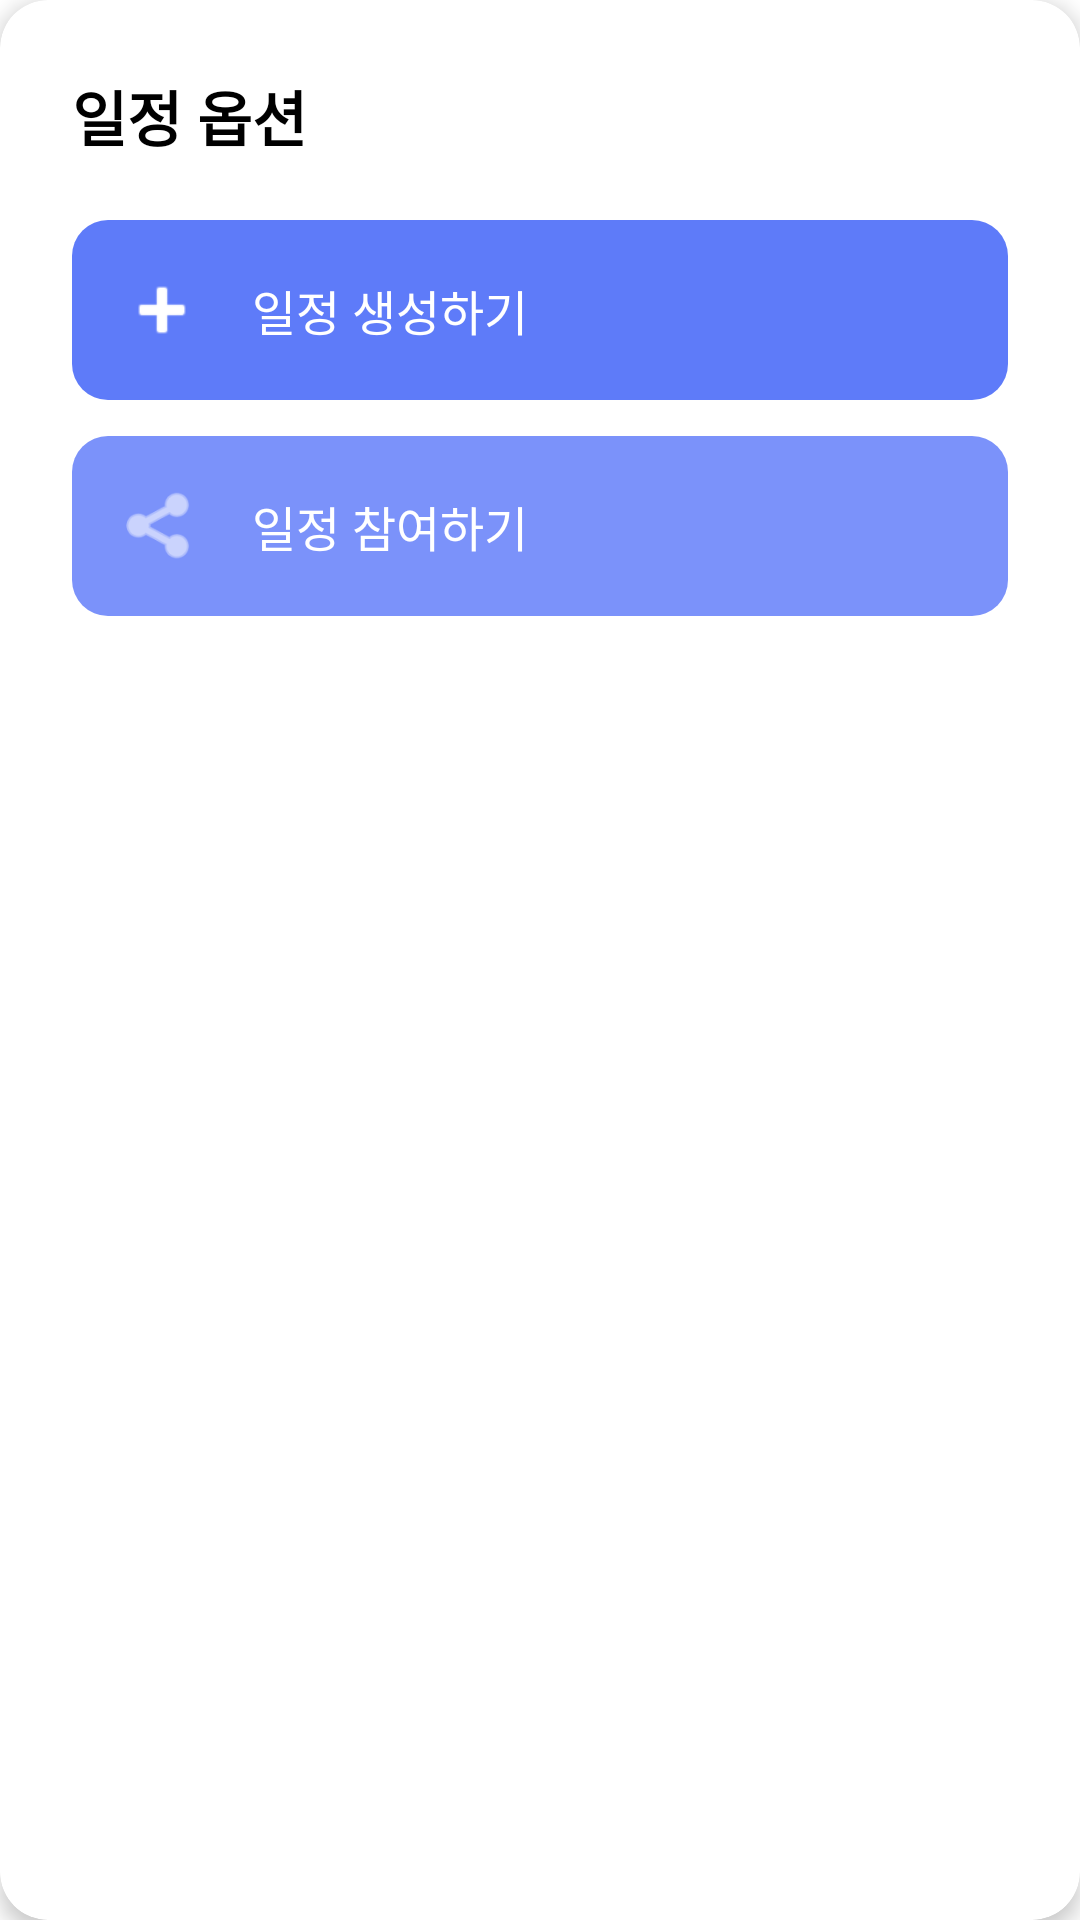

Where icons sit on this 1080w x 1920h app screen, as (x1, y1, x2, y2):
add: (138, 286, 186, 334)
share: (126, 493, 189, 558)
